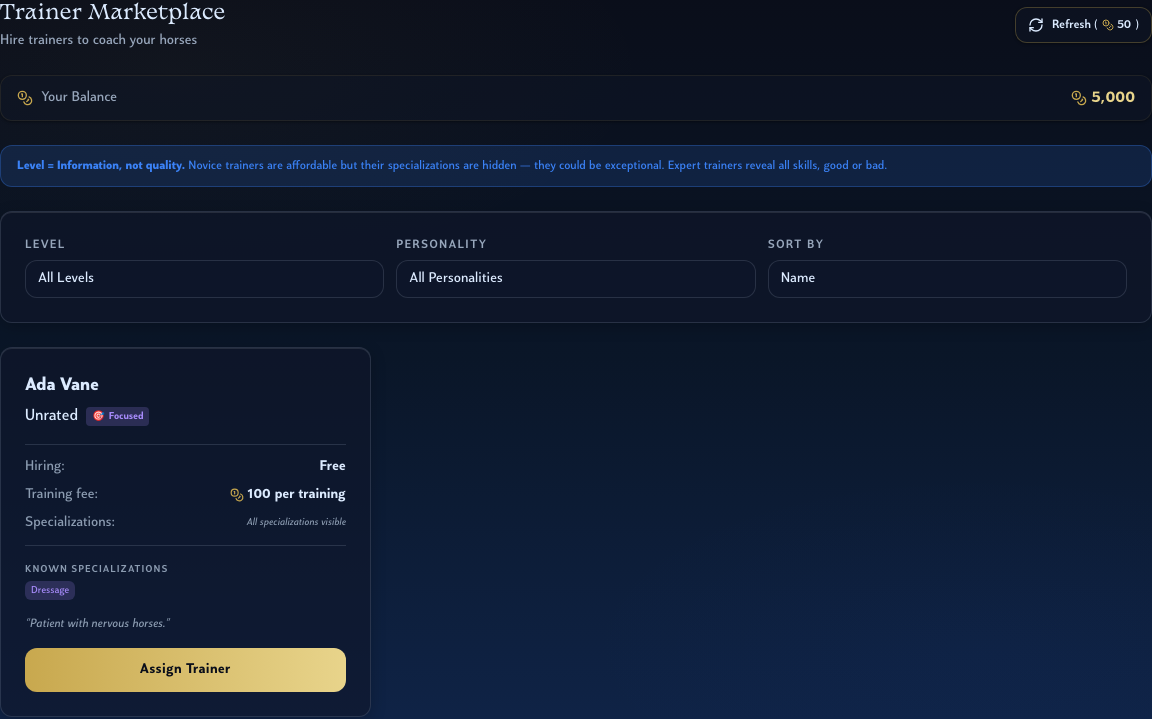
Test: TrainerList — refresh feedback (Equoria-oe9y8) › a refused refresh is announced beside the refresh control
Click the button with test id "refresh-marketplace-button".
click(1083, 25)  # box 1015,7 -> 1151,43
(page scrolled)
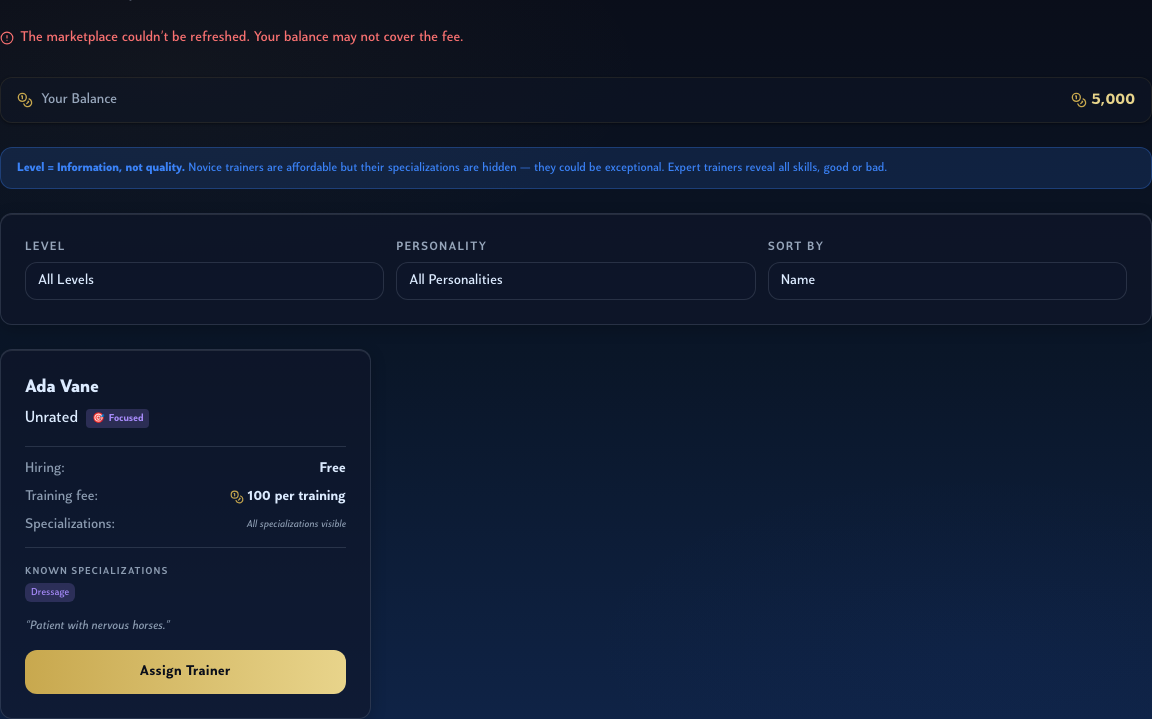
Expected: the element with test id "trainer-card-mk-1" is shown, 0,349 -> 371,718
Result: the message shows "refresh" at 20,30 -> 463,45
